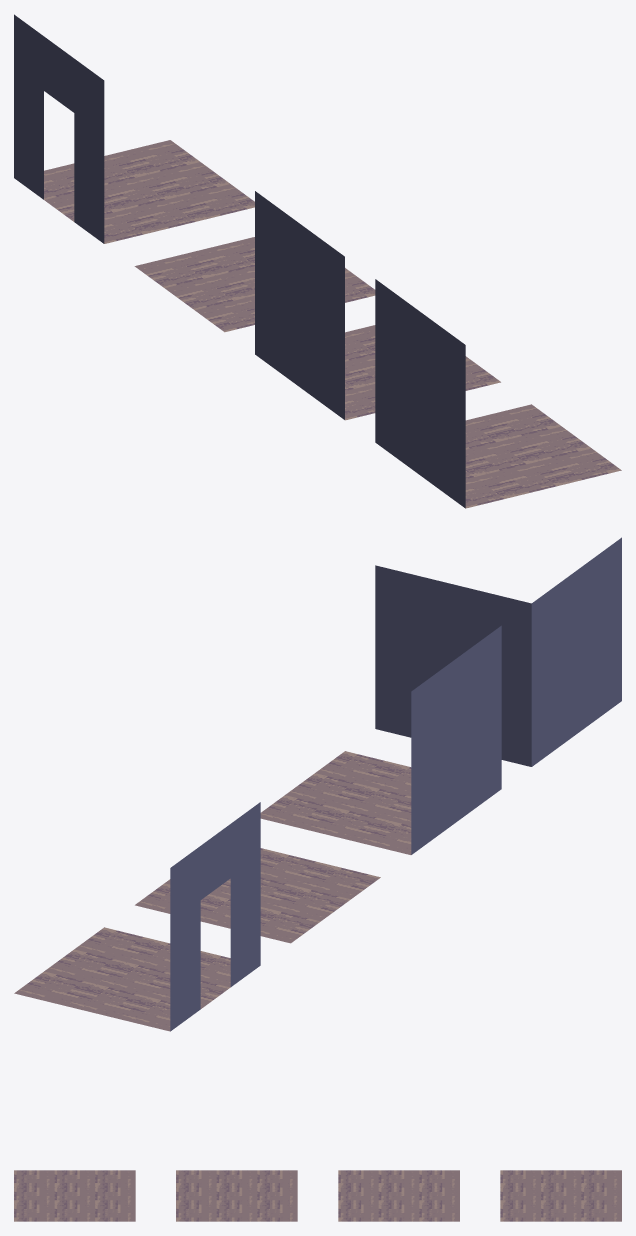
The model's file is zedend.gltf.
3 views of the same model, one above another, from view 1: azimuth 30°, elevation 25°; view 2: azimuth 150°, elevation 25°; view 3: azimuth 270°, elevation 25° (orthographic). The views are drawn at different scales.
Bounding box in the file's own units: 3 × 3 × 15.
1 material, 1 textured.
